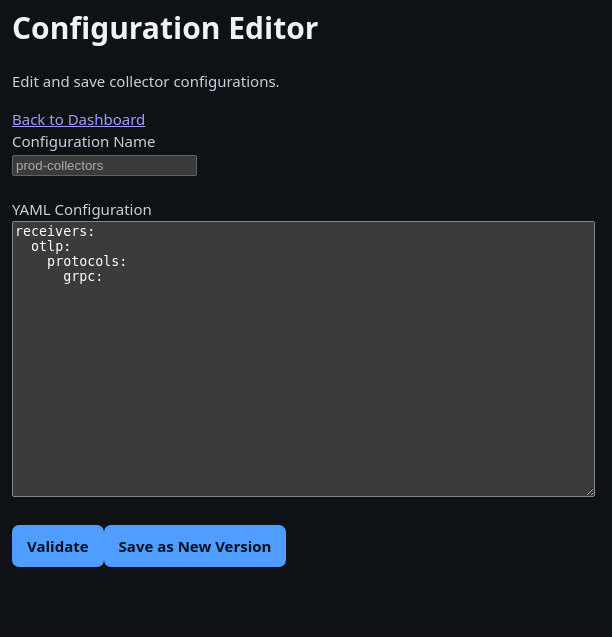
Test: ConfigEditor › renders the ApiError detail in an alert when save fails
Click the button "Save as New Version": x=195, y=546 [104,525,286,567]
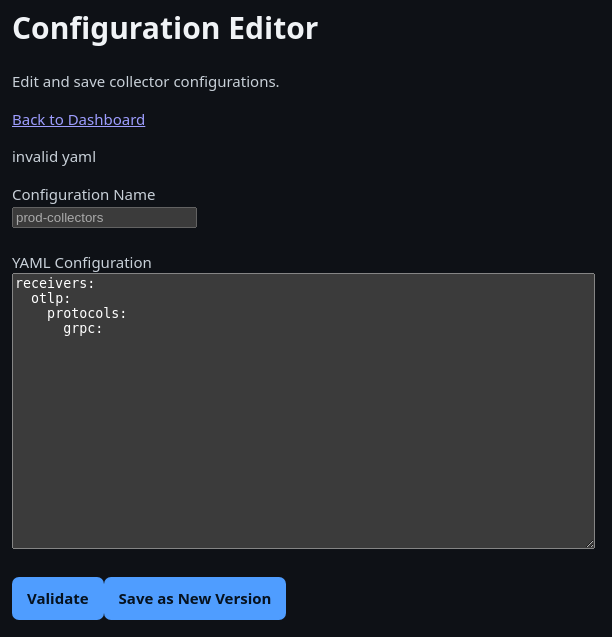
Expected: the message reads "invalid yaml", [12,146,96,166]
